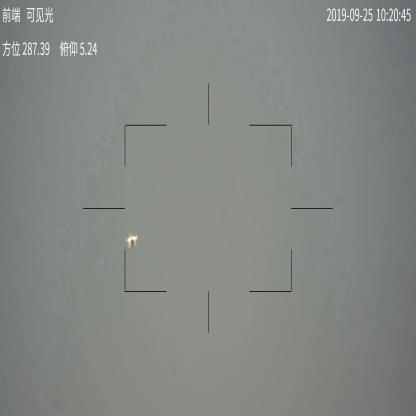uav: (124, 232, 140, 249)
